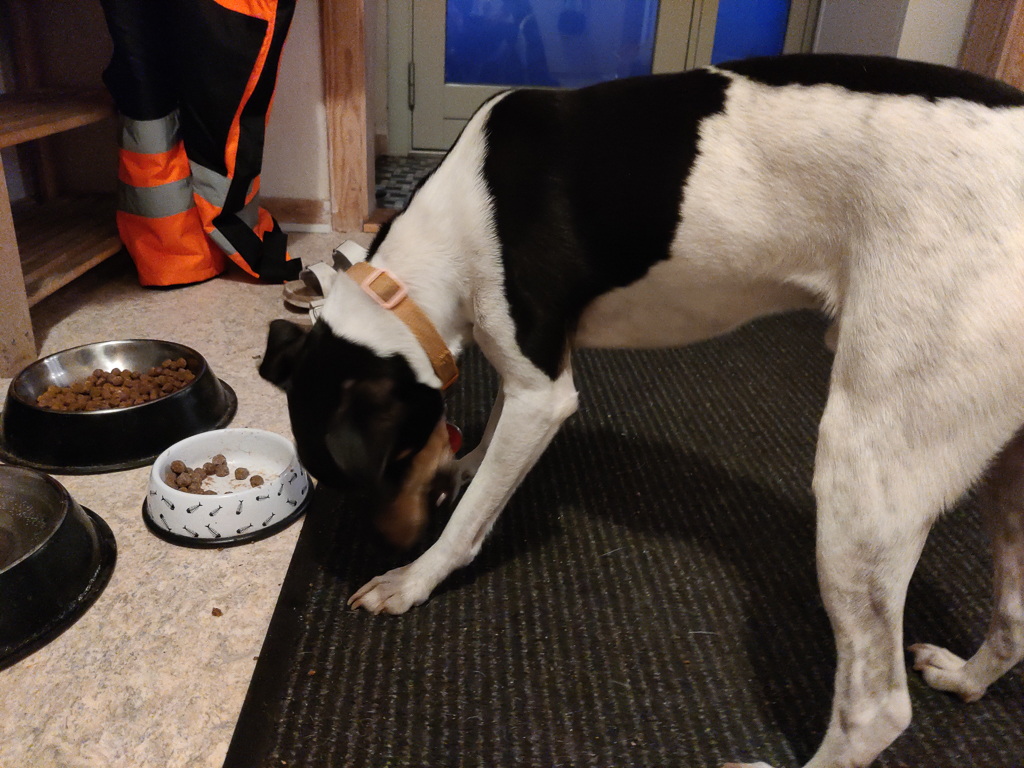Dog: (239, 35, 1024, 768)
